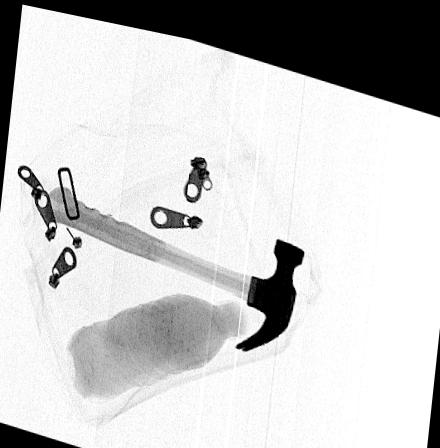Hammer: (44, 182, 305, 342)
